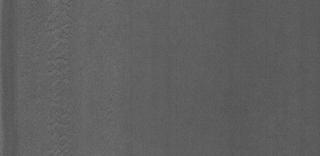silk spot: (41, 4, 78, 156)
